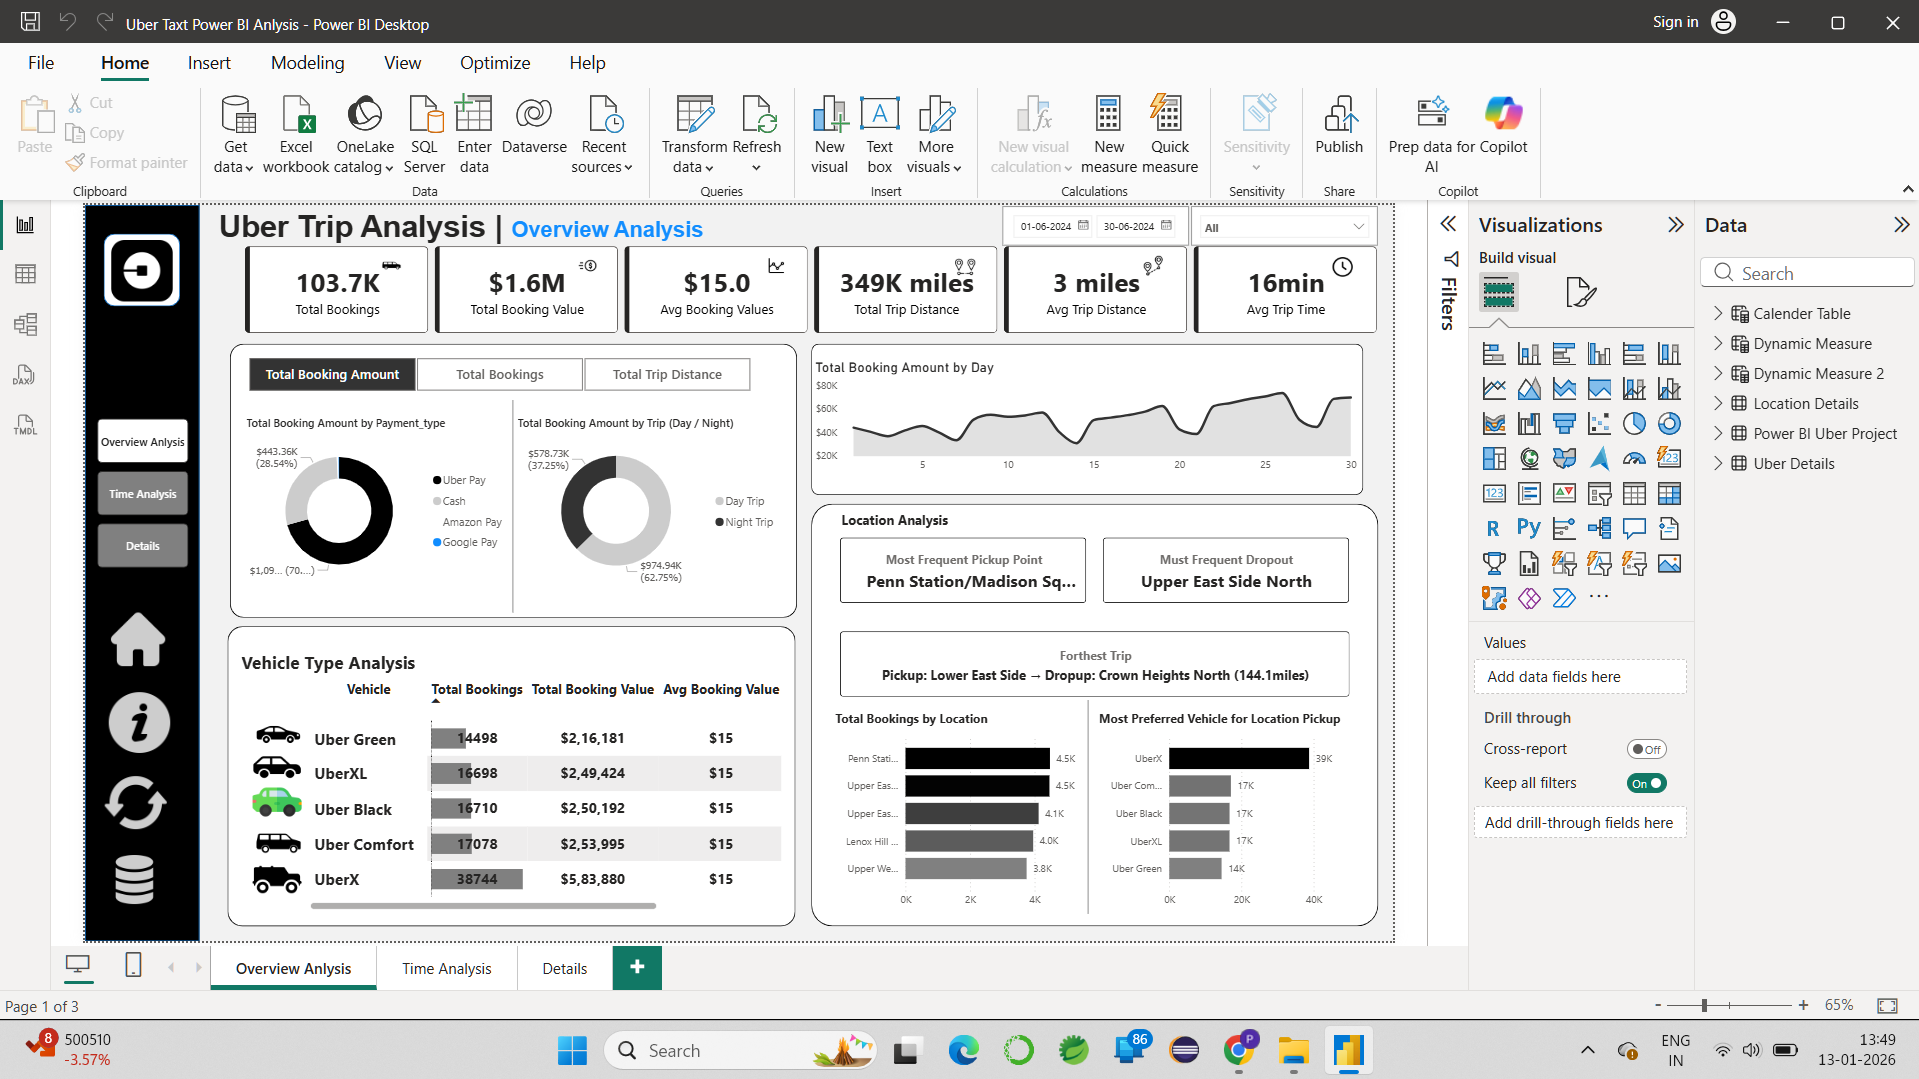

The page's visual inventory and layout, read from the dashboard file:
{"tool":"powerbi","page":{"name":"Overview Anlysis","canvas":[1600,900],"ordinal":0},"visuals":[{"type":"shape","box":[0,0,140,900.3],"z":0},{"type":"textbox","box":[159,0,767.3,68.8],"z":1000},{"type":"cardVisual","fields":{"Data":["Uber Details.Total Bookings","Uber Details.Total Booking Amount","Uber Details.Avg Booking Amount","Uber Details.Total Trip Distance","Uber Details.Avg Trip Distance","Uber Details.Avg Trip Time"]},"box":[178.4,34.3,1422,140.7],"z":2000},{"type":"image","box":[603.8,56.6,21.4,35.2],"z":3000},{"type":"image","box":[1063.9,58.1,24.5,35.2],"z":4000},{"type":"image","box":[1294.7,56.6,24.5,35.2],"z":5000},{"type":"image","box":[1525.5,58.1,24.5,35.2],"z":6000},{"type":"image","box":[834.6,56.6,21.4,35.2],"z":7000},{"type":"shape","box":[176.7,170,693.3,335],"z":8000},{"type":"image","box":[362.3,56.6,24.5,35.2],"z":9000},{"type":"slicer","fields":{"Values":["Dynamic Measure.Dynamic Measure"]},"box":[174.3,180.4,663.4,53.5],"z":10000},{"type":"donutChart","fields":{"Y":["Uber Details.Total Booking Amount"],"Category":["Uber Details.Payment_type"]},"box":[192.6,256.8,331.7,217.1],"z":11000},{"type":"donutChart","fields":{"Y":["Uber Details.Total Booking Amount"],"Category":["Uber Details.Trip Type (Day / Night)"]},"box":[524.3,256.8,331.7,217.1],"z":12000},{"type":"shape","box":[175,514.6,694.7,367.1],"z":13000},{"type":"pivotTable","fields":{"Rows":["Uber Details.Vehicle"],"Values":["Uber Details.Total Bookings","Uber Details.Total Booking Amount","Uber Details.Avg Booking Amount","Uber Details.Total Trip Distance Measurment"]},"box":[270.6,565.6,585.4,301.1],"z":14000},{"type":"image","box":[135.5,617.5,200.7,60],"z":15000},{"type":"image","box":[133.8,656.9,200.7,60],"z":16000},{"type":"image","box":[133.8,700,200.7,60],"z":17000},{"type":"image","box":[135.5,750,200,60],"z":18000},{"type":"image","box":[133.8,794.2,200.7,60],"z":19000},{"type":"textbox","box":[187,540.3,319,41.2],"z":20000},{"type":"shape","box":[888.3,170,675,185],"z":21000},{"type":"areaChart","fields":{"Category":["Calender Table.Date.Variation.Date Hierarchy.Day"],"Y":["Uber Details.Total Booking Amount"]},"box":[888.3,188.3,675,148.3],"z":22000},{"type":"shape","box":[888.3,365,693.3,516.7],"z":23000},{"type":"cardVisual","fields":{"Data":["Uber Details.Most Frequent Pickup Point","Uber Details.Must Frequent Dropout"]},"box":[906.4,389.4,657.4,114.9],"z":24000},{"type":"cardVisual","fields":{"Data":["Uber Details.Forthest Trip"]},"box":[906.4,504.4,657.3,114.6],"z":25000},{"type":"barChart","fields":{"Category":["Location Details.Location"],"Y":["Uber Details.Total Bookings"]},"box":[912.5,617.5,313.9,250.4],"z":26000},{"type":"barChart","title":"Most Preferred Vehicle for Location Pickup","fields":{"Category":["Uber Details.Vehicle"],"Y":["CountNonNull(Uber Details.PULocationID)"]},"box":[1235,617.5,313.9,250.4],"z":27000},{"type":"shape","box":[508.3,238.3,28.3,260],"z":28000},{"type":"shape","box":[1216.7,605,20,261.7],"z":29000},{"type":"textbox","box":[920,368,274.4,34],"z":30000},{"type":"slicer","fields":{"Values":["Calender Table.Date"]},"box":[1121.7,1.7,228.3,48.3],"z":31000},{"type":"slicer","fields":{"Values":["Location Details.City"]},"box":[1353.3,1,228.3,48.3],"z":32000},{"type":"shape","box":[22.9,35.2,93.2,88.7],"z":33000,"group":"g1"},{"type":"pageNavigator","box":[15.3,261.4,111.6,185],"z":33000},{"type":"group","id":"g1","title":"Group 1","box":[22.9,35.2,93.2,88.7],"z":34000},{"type":"image","box":[32.1,42.8,74.9,74.9],"z":34000,"group":"g1"},{"type":"image","box":[22.9,498.3,84.1,65.7],"z":35000},{"type":"image","box":[29,588.5,74.9,88.7],"z":36000},{"type":"image","box":[15.3,692.4,93.2,76.4],"z":37000},{"type":"image","box":[16.8,794.8,87.1,59.6],"z":38000}]}

Visuals, with their boxes on the page's 1600x900 design canvas (x1, y1, x2, y2). These are canvas units, not pixel positions in the 1919x1079 screenshot, which may show the page scaled, cropped or inside an application window:
shape: bbox=[0, 0, 140, 900]
textbox: bbox=[159, 0, 926, 69]
cardVisual - Uber Details.Total Bookings x Uber Details.Total Booking Amount: bbox=[178, 34, 1600, 175]
image: bbox=[604, 57, 625, 92]
image: bbox=[1064, 58, 1088, 93]
image: bbox=[1295, 57, 1319, 92]
image: bbox=[1526, 58, 1550, 93]
image: bbox=[835, 57, 856, 92]
shape: bbox=[177, 170, 870, 505]
image: bbox=[362, 57, 387, 92]
slicer - Dynamic Measure.Dynamic Measure: bbox=[174, 180, 838, 234]
donutChart - Uber Details.Total Booking Amount x Uber Details.Payment_type: bbox=[193, 257, 524, 474]
donutChart - Uber Details.Total Booking Amount x Uber Details.Trip Type (Day / Night): bbox=[524, 257, 856, 474]
shape: bbox=[175, 515, 870, 882]
pivotTable - Uber Details.Vehicle x Uber Details.Total Bookings: bbox=[271, 566, 856, 867]
image: bbox=[136, 618, 336, 678]
image: bbox=[134, 657, 334, 717]
image: bbox=[134, 700, 334, 760]
image: bbox=[136, 750, 336, 810]
image: bbox=[134, 794, 334, 854]
textbox: bbox=[187, 540, 506, 582]
shape: bbox=[888, 170, 1563, 355]
areaChart - Calender Table.Date.Variation.Date Hierarchy.Day x Uber Details.Total Booking Amount: bbox=[888, 188, 1563, 337]
shape: bbox=[888, 365, 1582, 882]
cardVisual - Uber Details.Most Frequent Pickup Point x Uber Details.Must Frequent Dropout: bbox=[906, 389, 1564, 504]
cardVisual - Uber Details.Forthest Trip: bbox=[906, 504, 1564, 619]
barChart - Location Details.Location x Uber Details.Total Bookings: bbox=[912, 618, 1226, 868]
"Most Preferred Vehicle for Location Pickup" barChart: bbox=[1235, 618, 1549, 868]
shape: bbox=[508, 238, 537, 498]
shape: bbox=[1217, 605, 1237, 867]
textbox: bbox=[920, 368, 1194, 402]
slicer - Calender Table.Date: bbox=[1122, 2, 1350, 50]
slicer - Location Details.City: bbox=[1353, 1, 1582, 49]
shape: bbox=[23, 35, 116, 124]
pageNavigator: bbox=[15, 261, 127, 446]
"Group 1" group: bbox=[23, 35, 116, 124]
image: bbox=[32, 43, 107, 118]
image: bbox=[23, 498, 107, 564]
image: bbox=[29, 588, 104, 677]
image: bbox=[15, 692, 108, 769]
image: bbox=[17, 795, 104, 854]
